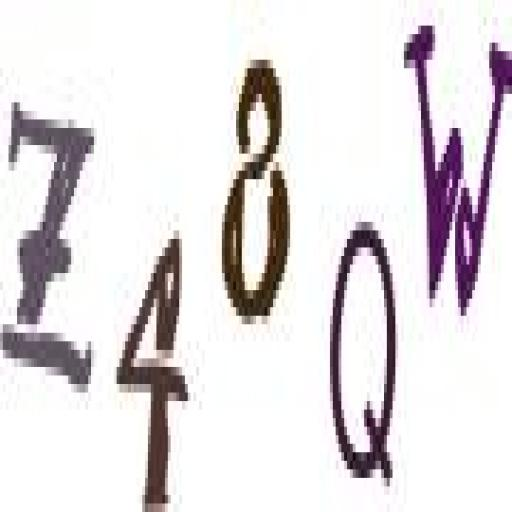4: (110, 212, 193, 508)
8: (216, 34, 292, 342)
Q: (327, 211, 409, 510)
W: (401, 8, 510, 326)
Z: (0, 68, 100, 410)
